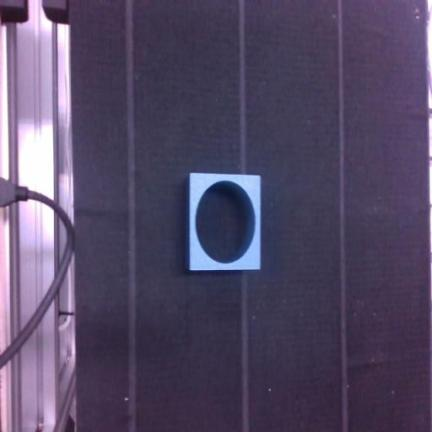square: (189, 173, 260, 270)
